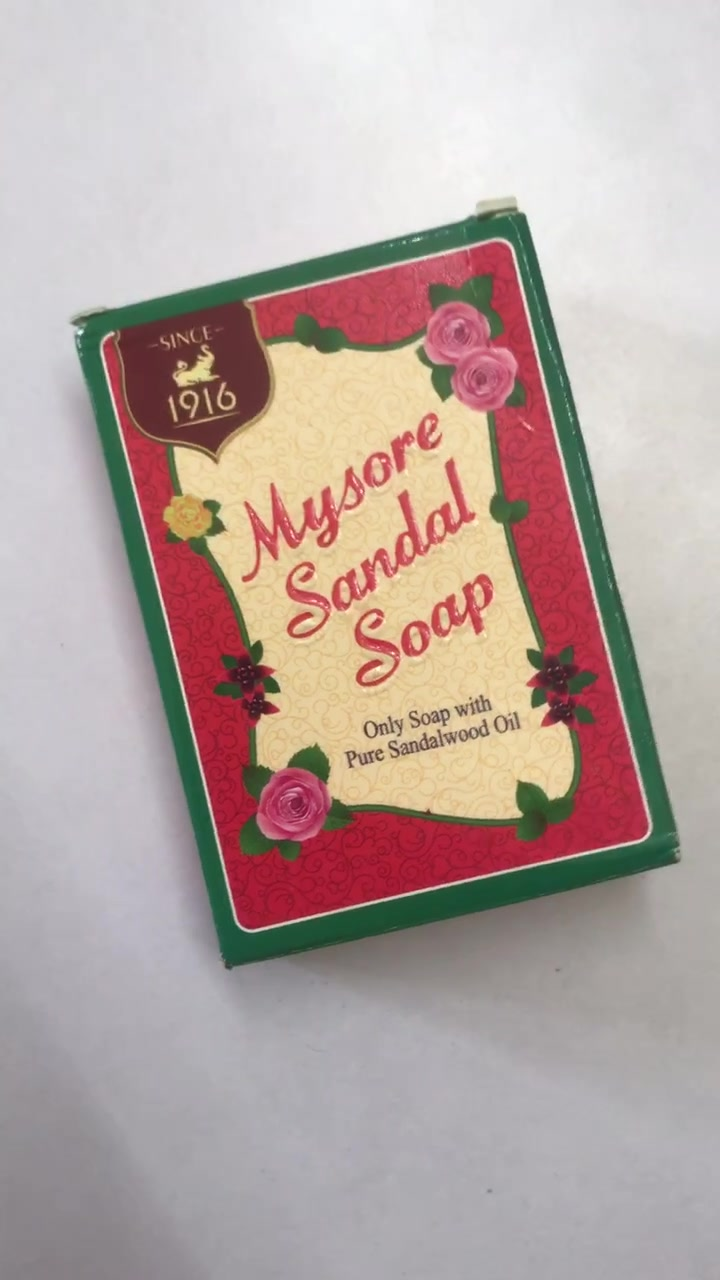mysore sandal soap: (71, 207, 685, 973)
